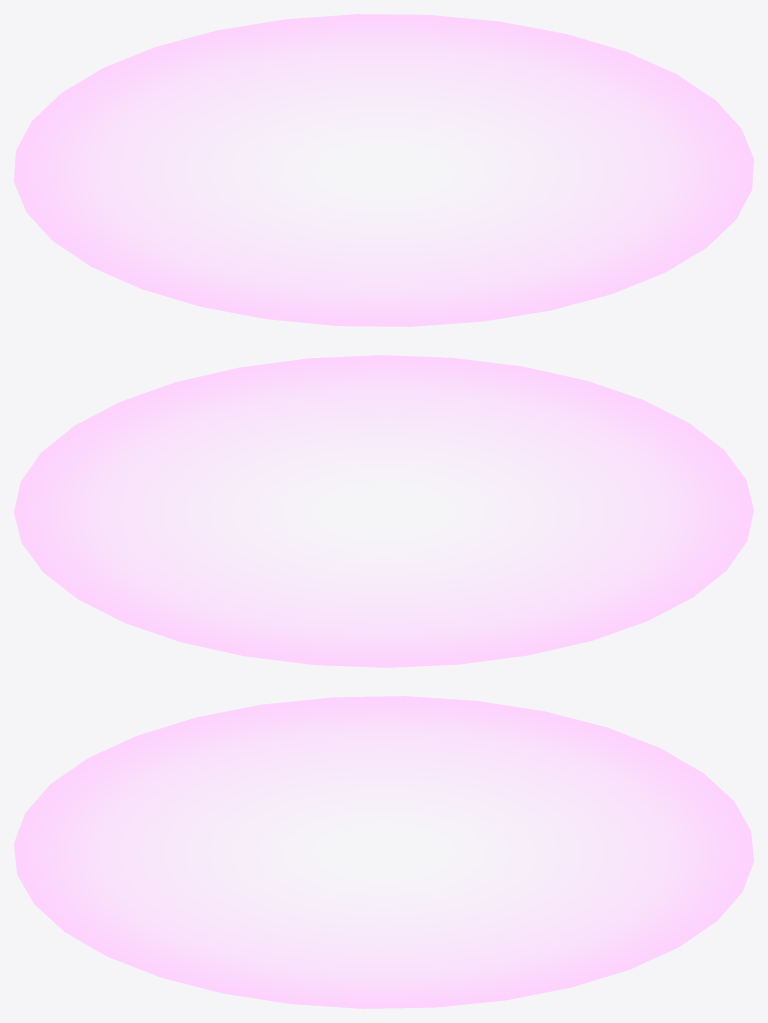
Rendered from gemVfx.glb.
The picture shows the model from 3 angles, top to bottom: view 1: azimuth 30°, elevation 25°; view 2: azimuth 150°, elevation 25°; view 3: azimuth 270°, elevation 25°; orthographic projection.
Visible parts, largest first — view 1: gem-vfx; view 2: gem-vfx; view 3: gem-vfx.
Part boxes in pixels (left/top/right/bottom): gem-vfx: left=14, top=14, right=753, bottom=326; gem-vfx: left=14, top=355, right=753, bottom=667; gem-vfx: left=14, top=696, right=753, bottom=1008.
Bounding box in the file's own units: 0.6152 × 0 × 0.6152.
1 material, 1 textured.
